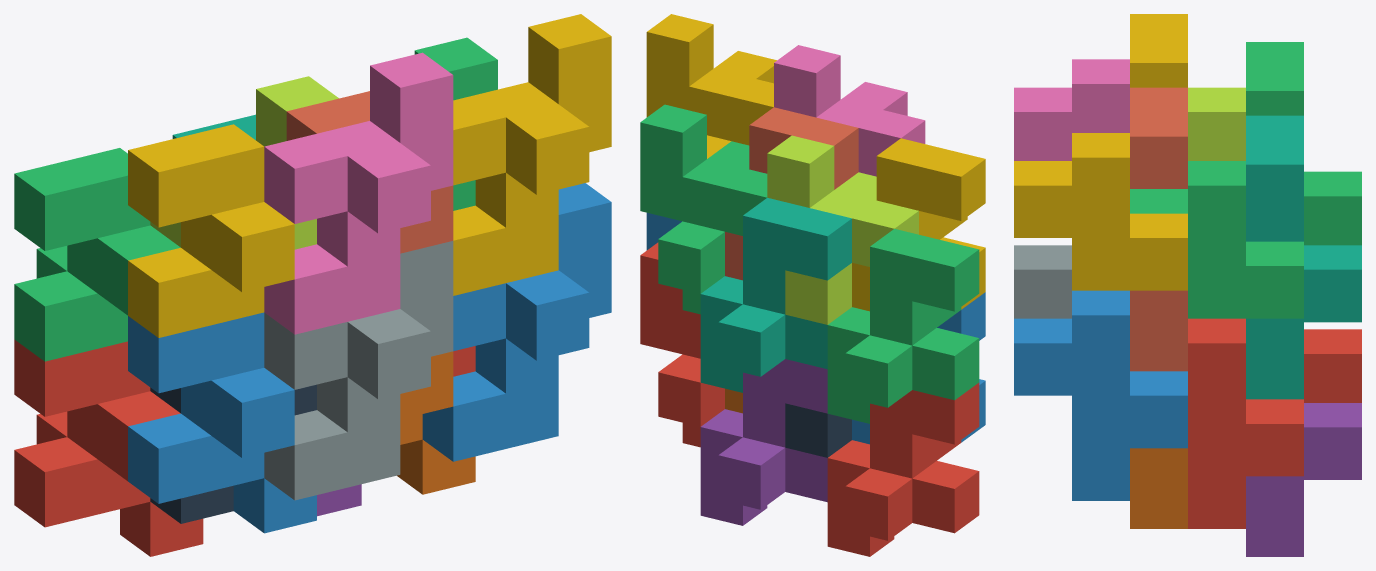
File: tiling.obj
3 views of the same model, side by side, from view 1: azimuth 30°, elevation 25°; view 2: azimuth 150°, elevation 25°; view 3: azimuth 270°, elevation 25° (orthographic). The views are drawn at different scales.
Parts seen in each view (by area): view 1: copy_2_domain_4, copy_2_domain_8, copy_2_domain_2, copy_1_domain_4, copy_2_domain_6, copy_1_domain_2, copy_1_domain_1, copy_1_domain_3, copy_1_domain_6, copy_1_domain_8, copy_2_domain_3, copy_2_domain_7 (+2 smaller); view 2: copy_1_domain_3, copy_1_domain_1, copy_1_domain_7, copy_2_domain_7, copy_1_domain_5, copy_2_domain_3, copy_2_domain_8, copy_1_domain_4, copy_2_domain_4, copy_2_domain_5, copy_1_domain_8, copy_2_domain_1 (+2 smaller); view 3: copy_2_domain_6, copy_2_domain_8, copy_2_domain_5, copy_1_domain_7, copy_2_domain_7, copy_1_domain_8, copy_1_domain_5, copy_1_domain_3, copy_2_domain_4, copy_1_domain_6, copy_1_domain_1, copy_1_domain_4 (+2 smaller).
Boxes of the visible parts, x1,y1,x2,y2 form: copy_2_domain_4: [264, 52, 453, 334]; copy_2_domain_8: [453, 14, 611, 295]; copy_2_domain_2: [264, 241, 453, 500]; copy_1_domain_4: [128, 124, 294, 337]; copy_2_domain_6: [422, 183, 611, 461]; copy_1_domain_2: [128, 312, 316, 533]; copy_1_domain_1: [14, 339, 203, 556]; copy_1_domain_3: [14, 148, 180, 361]; copy_1_domain_6: [397, 351, 475, 494]; copy_1_domain_8: [286, 91, 453, 253]; copy_2_domain_3: [150, 76, 338, 249]; copy_2_domain_7: [414, 37, 497, 210]; copy_1_domain_3: [827, 229, 979, 423]; copy_1_domain_1: [827, 382, 979, 556]; copy_1_domain_7: [700, 198, 851, 392]; copy_2_domain_7: [640, 104, 767, 314]; copy_1_domain_5: [700, 359, 827, 525]; copy_2_domain_3: [767, 135, 918, 324]; copy_2_domain_8: [646, 14, 776, 158]; copy_1_domain_4: [852, 138, 985, 311]; copy_2_domain_4: [774, 45, 925, 176]; copy_2_domain_5: [640, 242, 724, 447]; copy_1_domain_8: [725, 107, 858, 280]; copy_2_domain_1: [785, 403, 851, 457]; copy_2_domain_6: [1014, 290, 1187, 500]; copy_2_domain_8: [1014, 133, 1187, 290]; copy_2_domain_5: [1188, 318, 1303, 528]; copy_1_domain_7: [1246, 115, 1361, 399]; copy_2_domain_7: [1130, 161, 1303, 318]; copy_1_domain_8: [1130, 87, 1187, 371]; copy_1_domain_5: [1246, 403, 1361, 556]; copy_1_domain_3: [1246, 42, 1361, 245]; copy_2_domain_4: [1014, 59, 1129, 160]; copy_1_domain_6: [1130, 448, 1187, 528]; copy_1_domain_1: [1304, 329, 1361, 402]; copy_1_domain_4: [1130, 14, 1187, 87].
Bounding box in the file's own units: 9 × 9 × 6.
